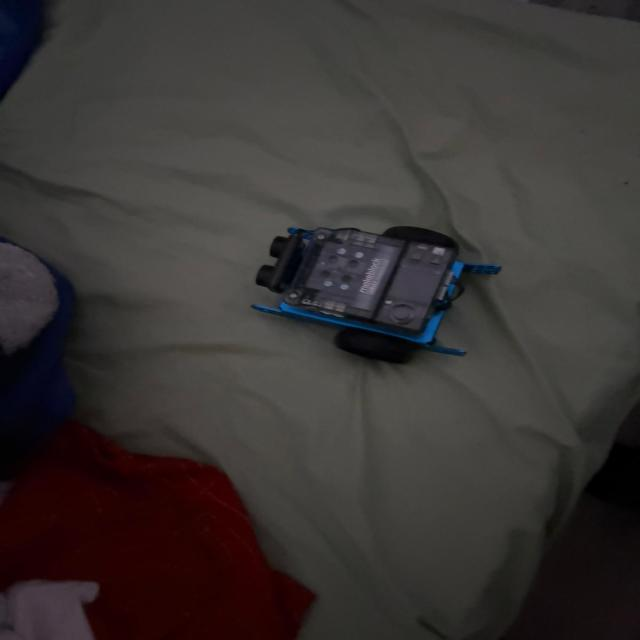mbot-detection: (231, 218, 510, 369)
